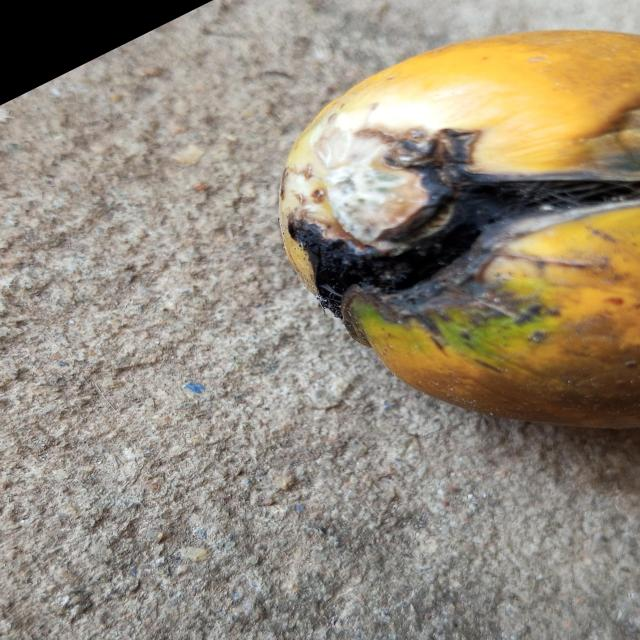damaged: (279, 29, 640, 433)
